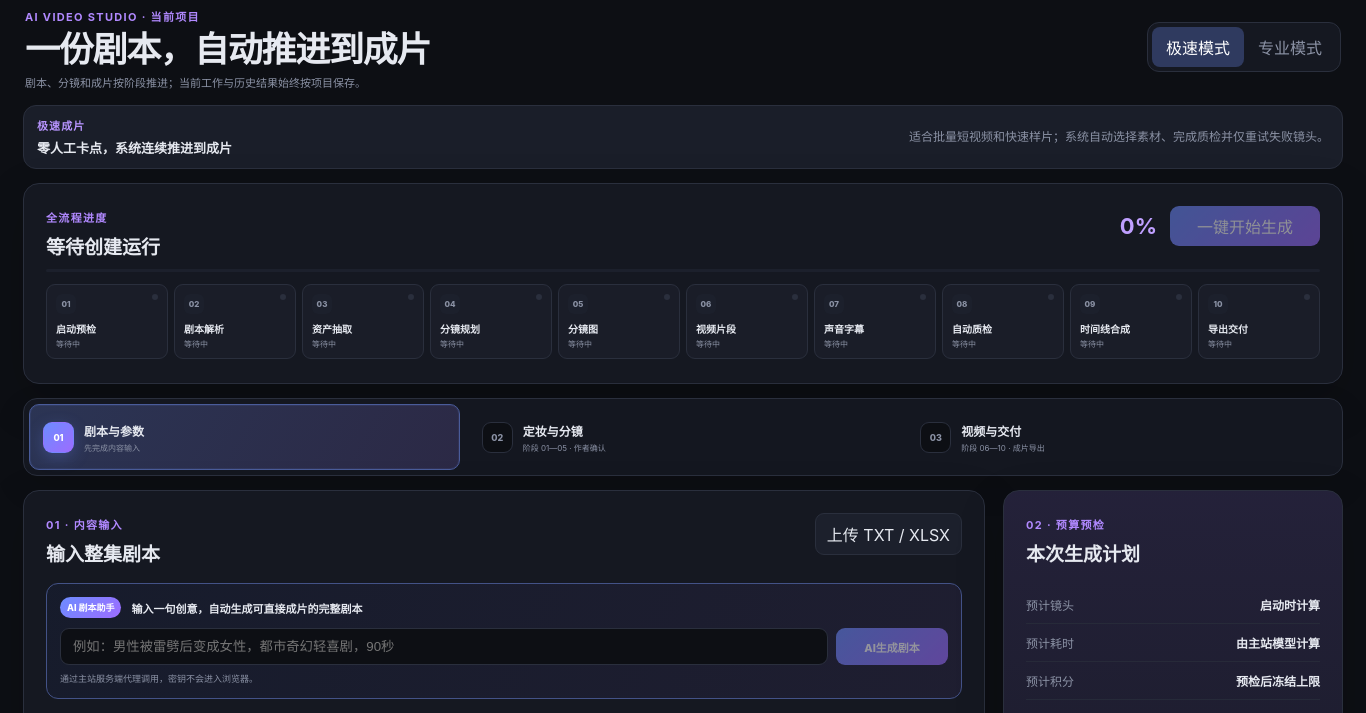
Test: VideoStudio › AI剧本助手通过注入的服务端能力生成并回填剧本
The image size is (1366, 713).
Type "男性被雷劈后变成女性" into the field named "AI剧本创意" at (444, 647), box [60,628,828,665]
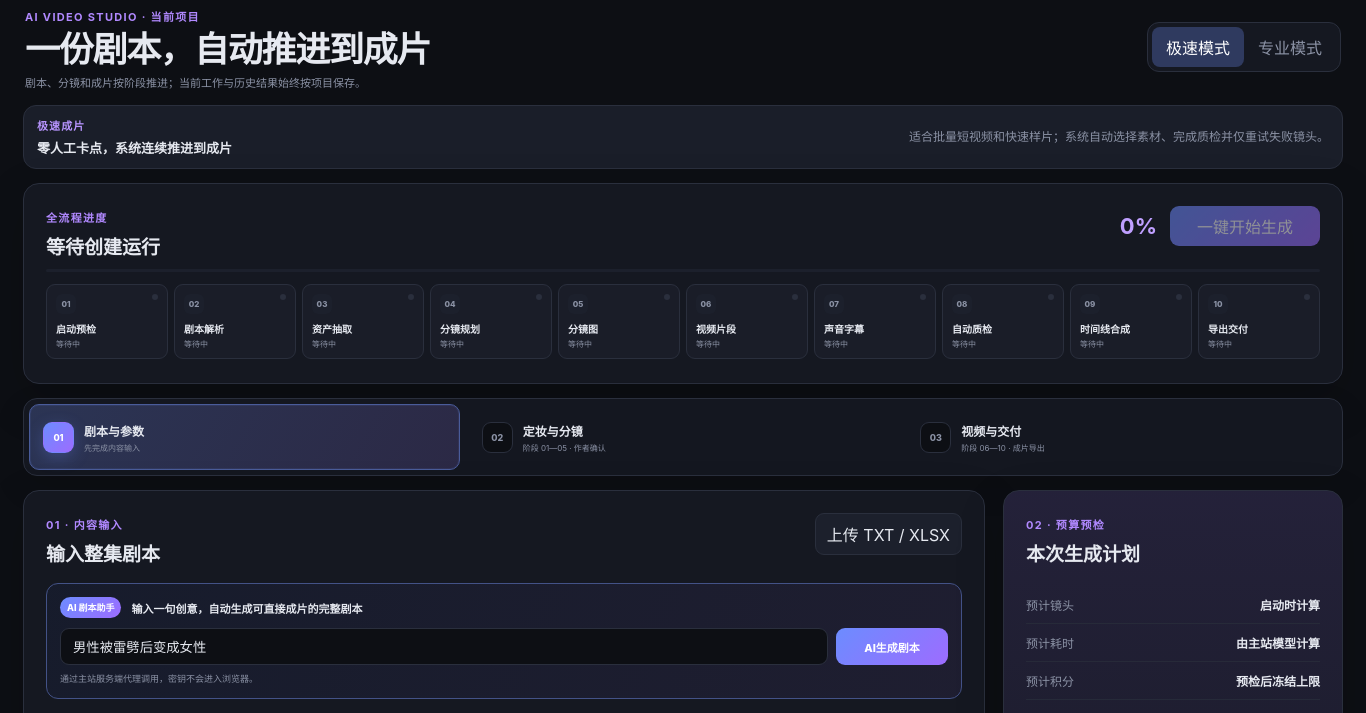
Click the button "AI生成剧本" at (892, 647), box [836,628,948,665]
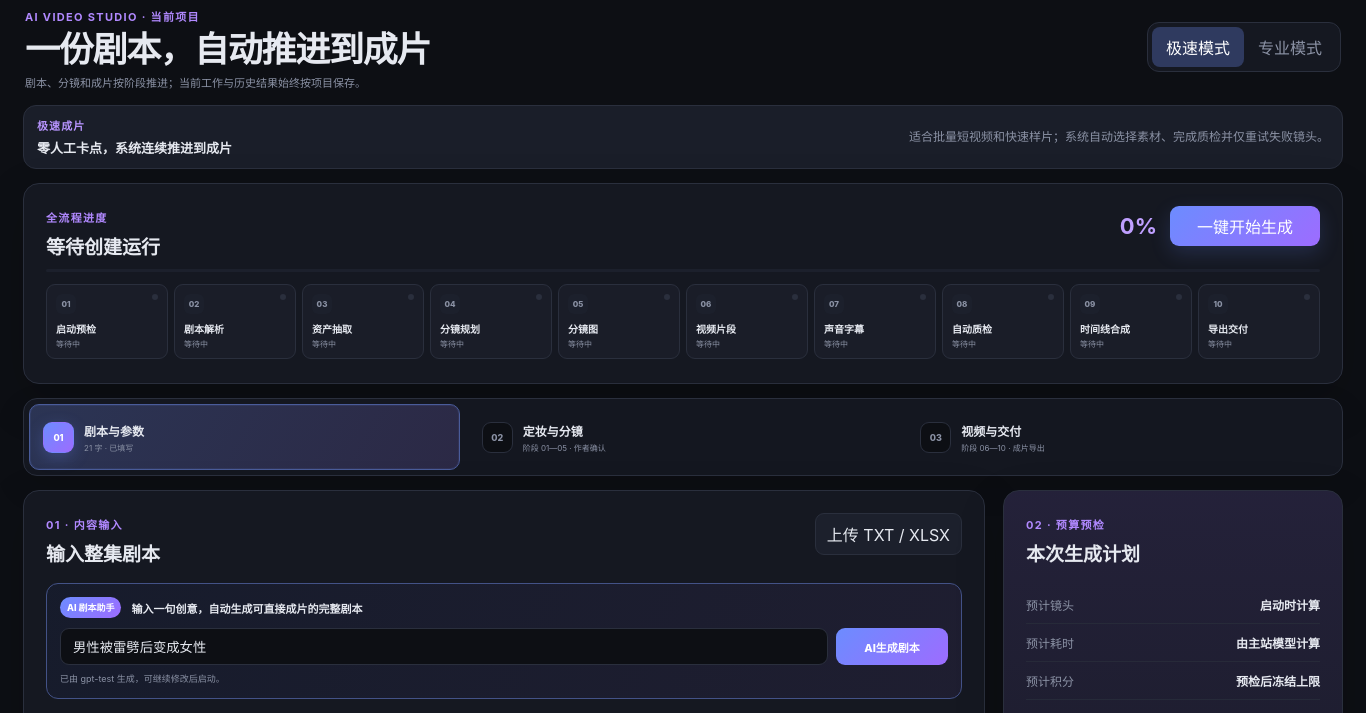
Now the text "已由 gpt-test 生成，可继续修改后启动。" is shown, box [60,673,225,684]
